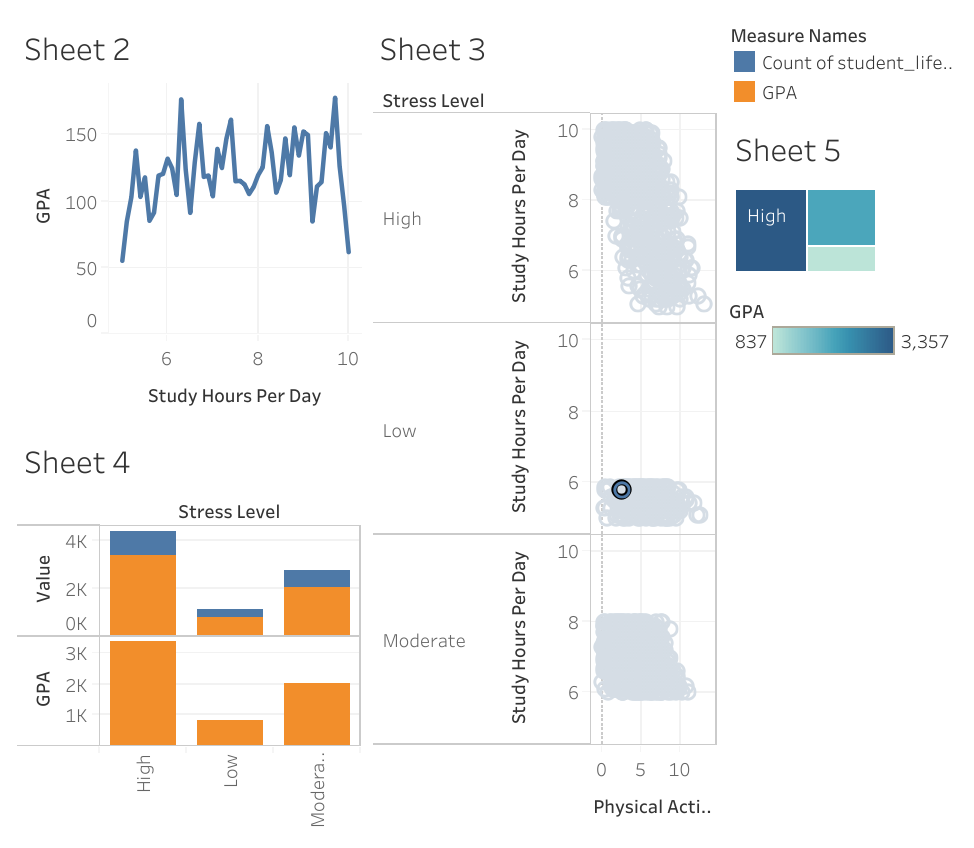

The page's visual inventory and layout, read from the dashboard file:
{"tool":"tableau","page":{"name":"Dashboard 1","canvas":[650,860],"ordinal":0},"visuals":[{"type":"worksheet","title":"Sheet 2","mark":"Automatic","rows":["GPA"],"cols":["Study_Hours_Per_Day"],"box":[8,8,237,422]},{"type":"worksheet","title":"Sheet 3","mark":"Automatic","rows":["Stress_Level","Study_Hours_Per_Day"],"cols":["Physical_Activity_Hours_Per_Day"],"box":[245,8,237,844]},{"type":"legend","title":"Sheet 4","param":"[federated.159kgu71jj4bbg11cim6x1x06tzp].[:Measure Names]","box":[482,8,160,84]},{"type":"worksheet","title":"Sheet 5","mark":"Automatic","box":[482,92,160,158]},{"type":"legend","title":"Sheet 5","param":"[federated.159kgu71jj4bbg11cim6x1x06tzp].[sum:GPA:qk]","box":[482,250,160,81]},{"type":"worksheet","title":"Sheet 4","mark":"Automatic","rows":["GPA"],"cols":["Stress_Level"],"box":[8,430,237,422]}]}

Visuals, with their boxes on the page's 650x860 design canvas (x1, y1, x2, y2). These are canvas units, not pixel positions in the 974x848 screenshot, which may show the page scaled, cropped or inside an application window:
"Sheet 2" worksheet: box=[8, 8, 245, 430]
"Sheet 3" worksheet: box=[245, 8, 482, 852]
"Sheet 4" legend: box=[482, 8, 642, 92]
"Sheet 5" worksheet: box=[482, 92, 642, 250]
"Sheet 5" legend: box=[482, 250, 642, 331]
"Sheet 4" worksheet: box=[8, 430, 245, 852]
